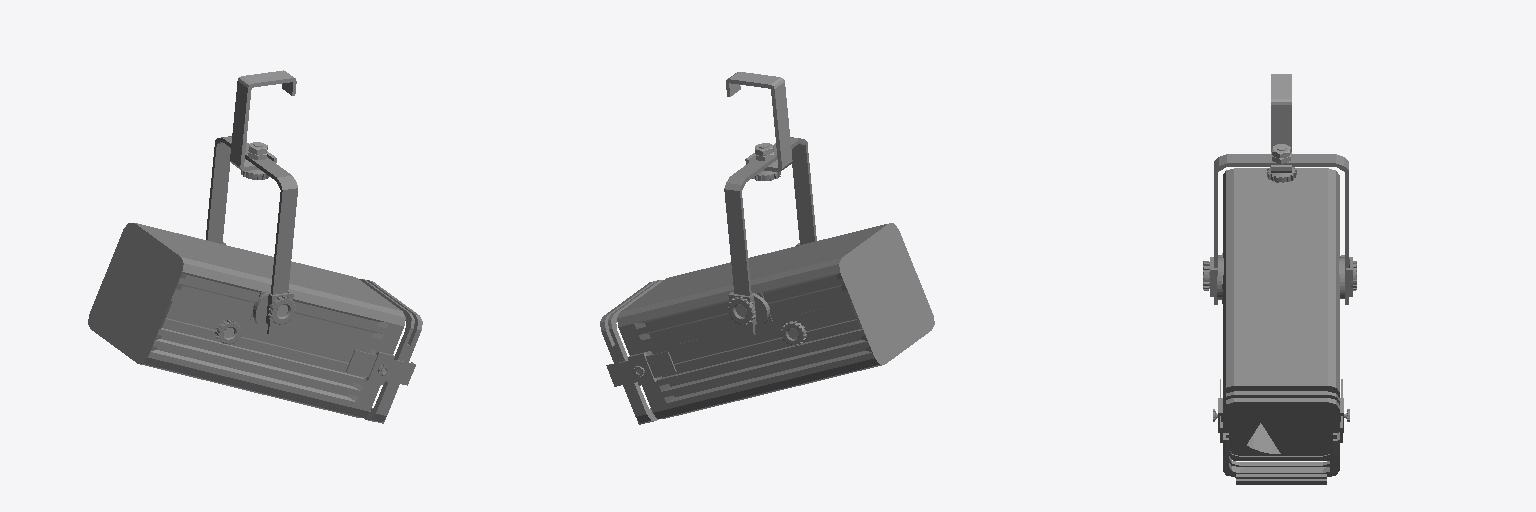
The model's file is light_02.obj.
The picture shows the model from 3 angles: view 1: azimuth 30°, elevation 25°; view 2: azimuth 150°, elevation 25°; view 3: azimuth 270°, elevation 25°; orthographic projection.
Parts seen in each view (by area): view 1: Cube, hanger_Cube.003; view 2: Cube, hanger_Cube.003; view 3: Cube, hanger_Cube.003.
Part boxes in pixels (left/top/right/bottom): Cube: left=88, top=223, right=422, bottom=423; hanger_Cube.003: left=206, top=70, right=297, bottom=333; Cube: left=600, top=223, right=934, bottom=424; hanger_Cube.003: left=724, top=72, right=816, bottom=335; Cube: left=1213, top=168, right=1349, bottom=484; hanger_Cube.003: left=1203, top=74, right=1356, bottom=304.
Bounding box in the file's own units: 5.55 × 6.67 × 2.61.